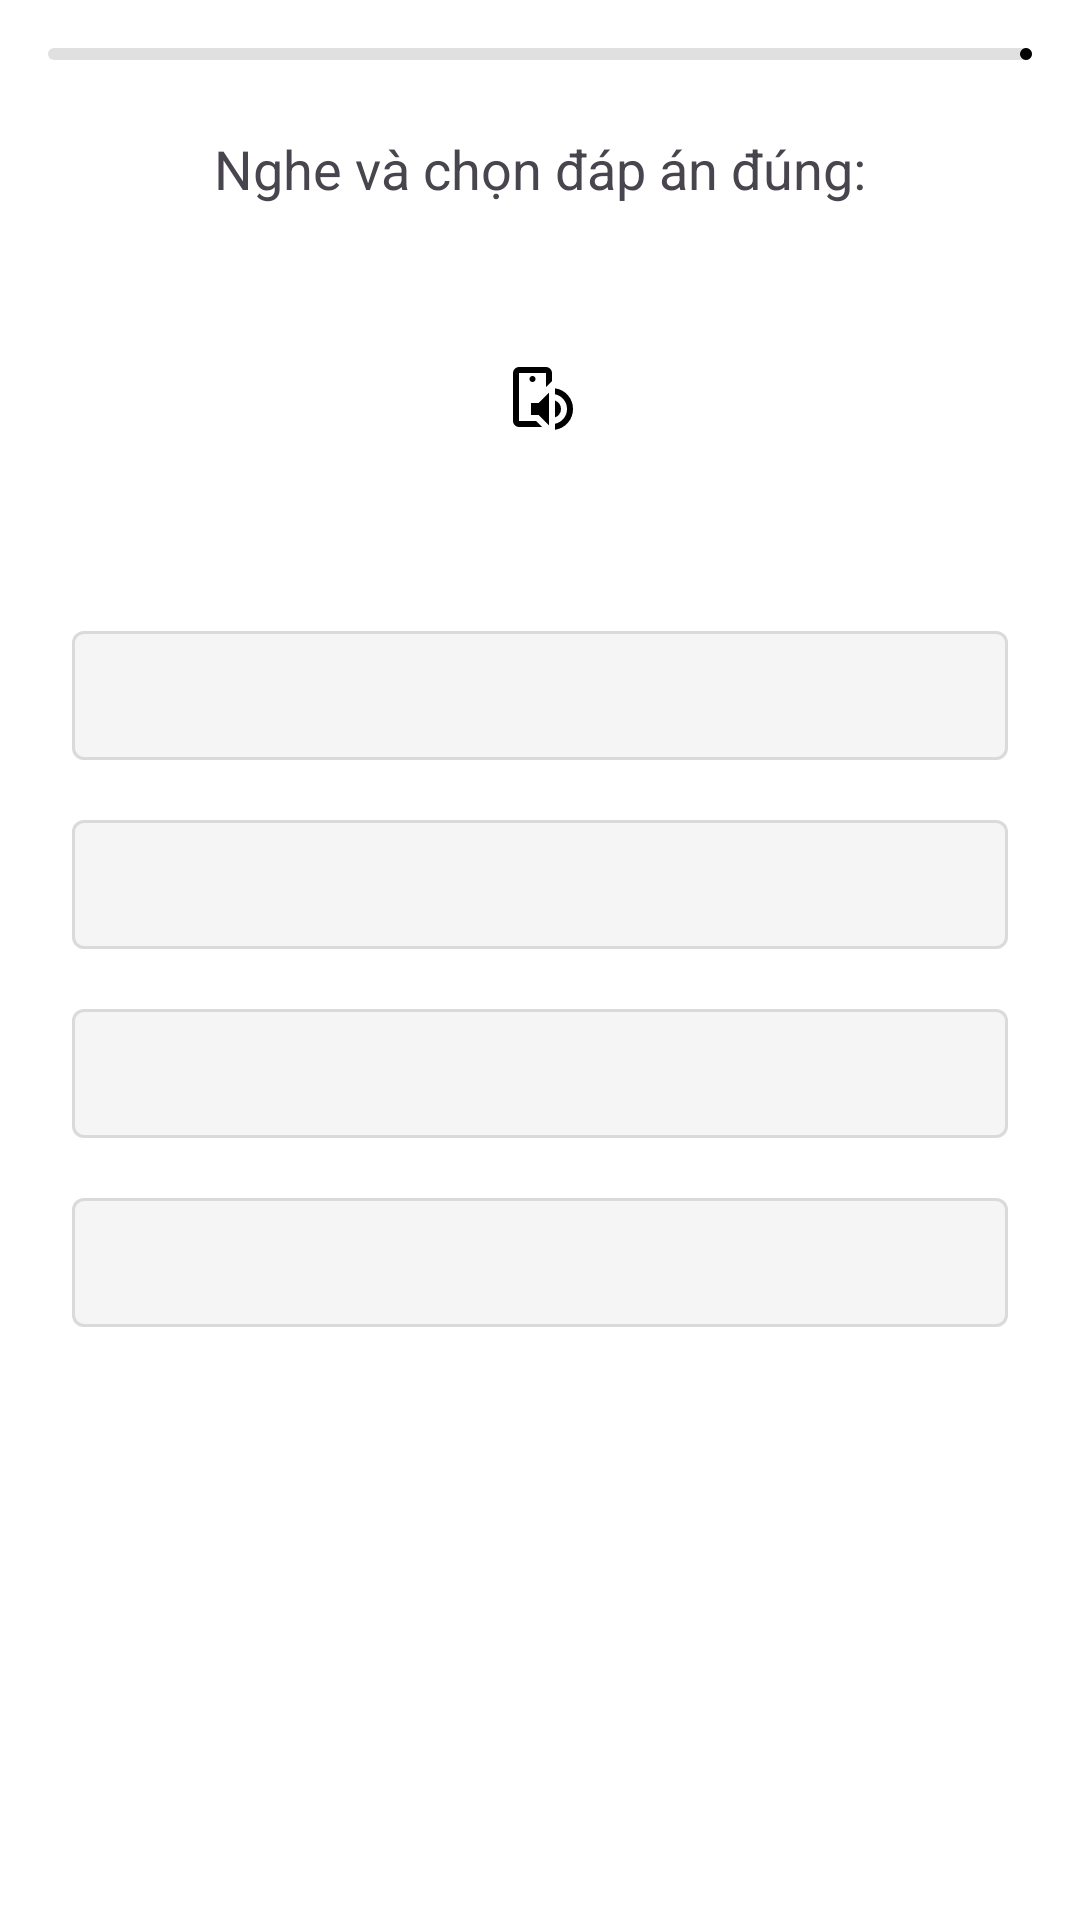

Screen size 1080 × 1920. Icon name, then its center in pixels as (x=x, y=y):
Phát âm: (x=543, y=398)
